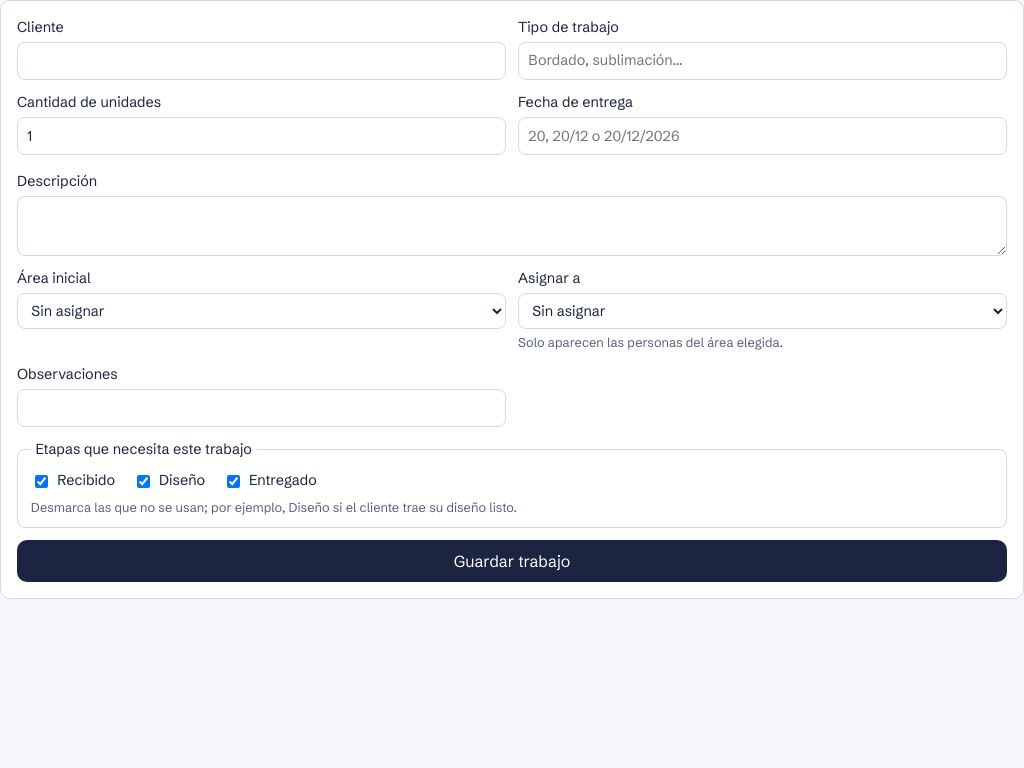
Test: NuevoTrabajo › exige al menos 2 etapas
Type "Colegio" into the field labelled "Cliente". click: (262,61)
box: [17,42,506,80]
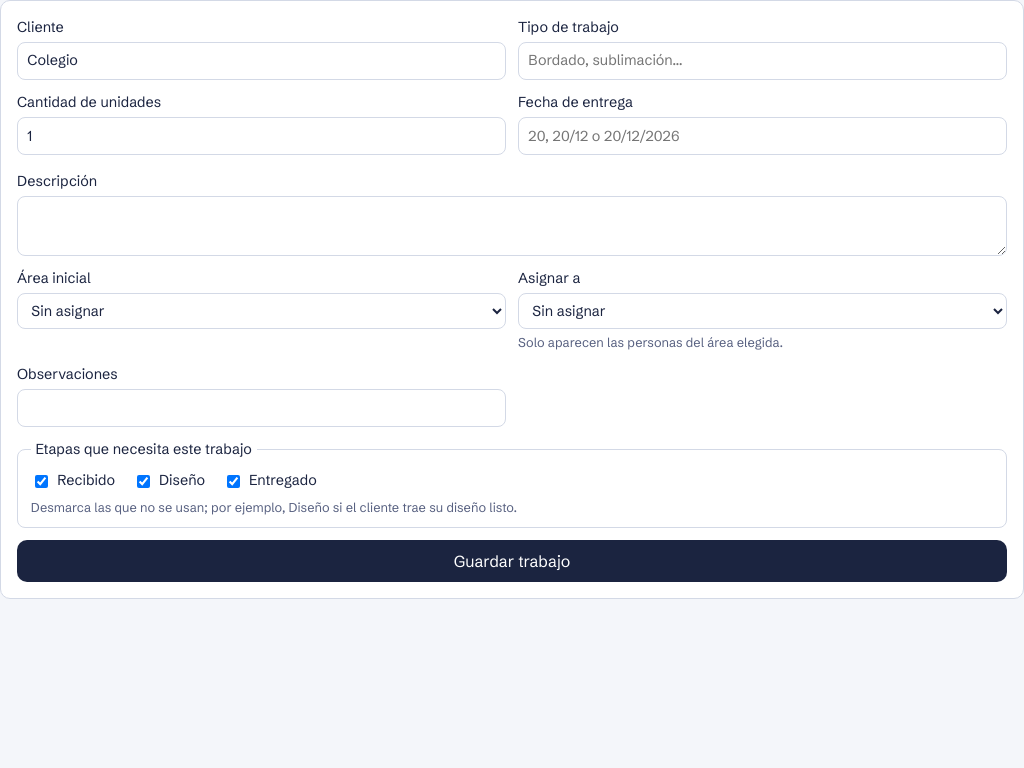
Type "Bordado" into the field labelled "Tipo de trabajo". click: (762,61)
box: [518,42,1007,80]
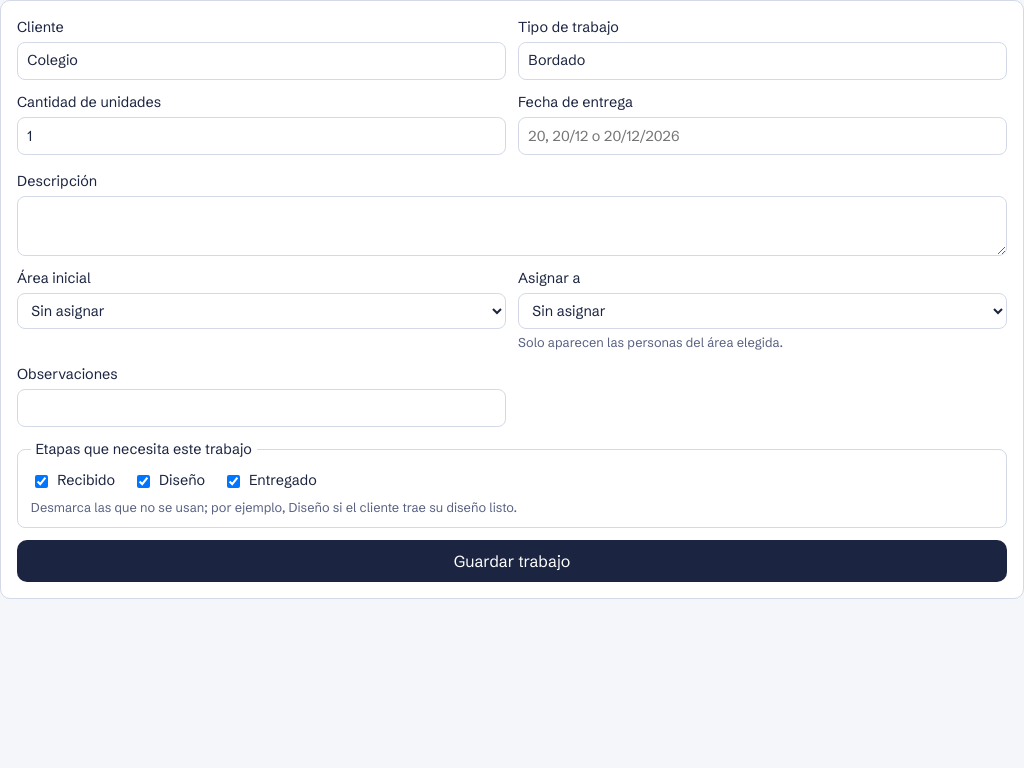
Type "60 buzos" into the text box labelled "Descripción". click: (512,226)
box: [17,196,1007,256]
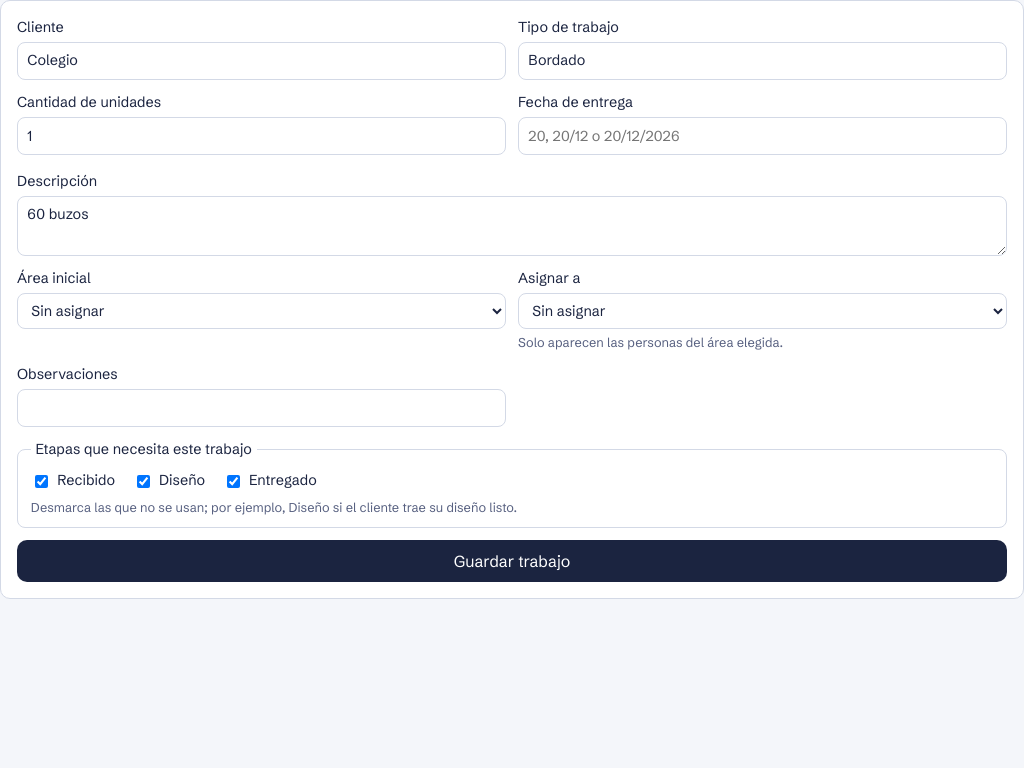
Click the checkbox labelled "Diseño". click: (143,481)
box: [137,475,150,488]
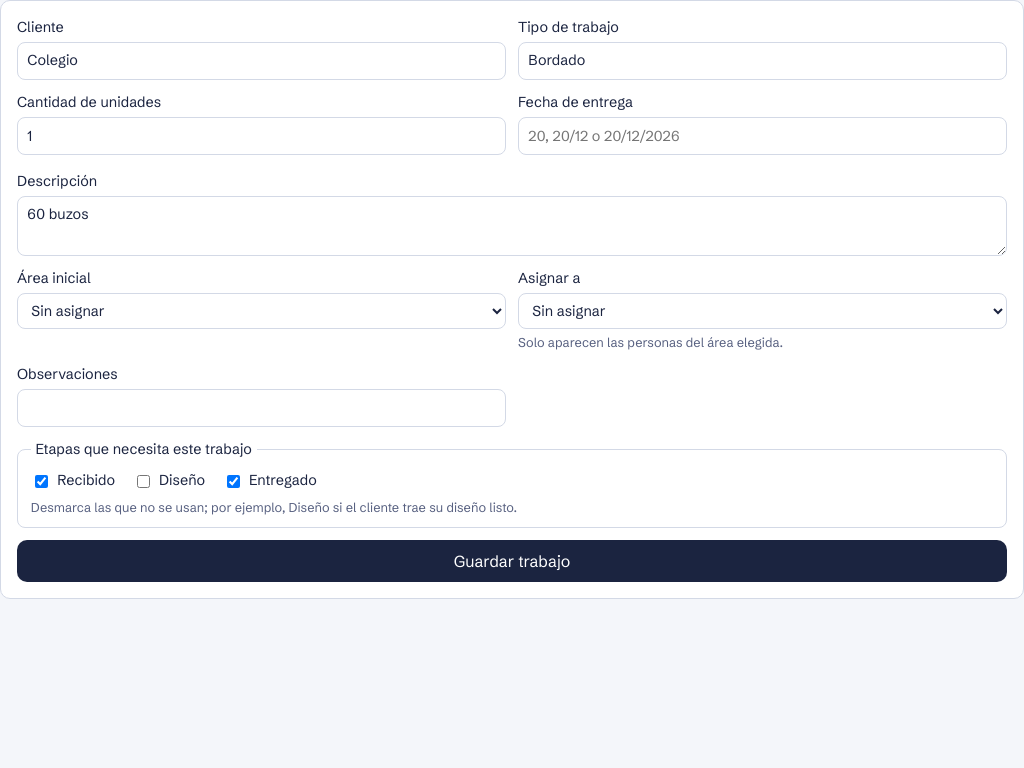
Click the checkbox labelled "Entregado". click: (233,481)
box: [227,475,240,488]
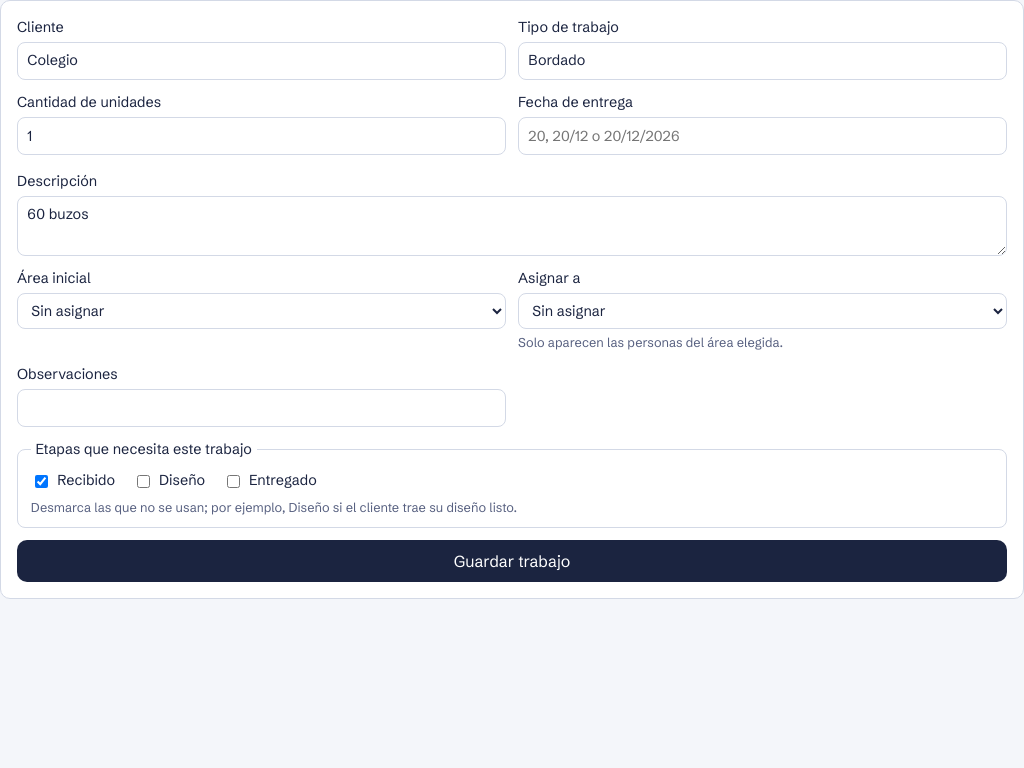
Click the button "Guardar trabajo". click: (512,561)
box: [17,540,1007,582]
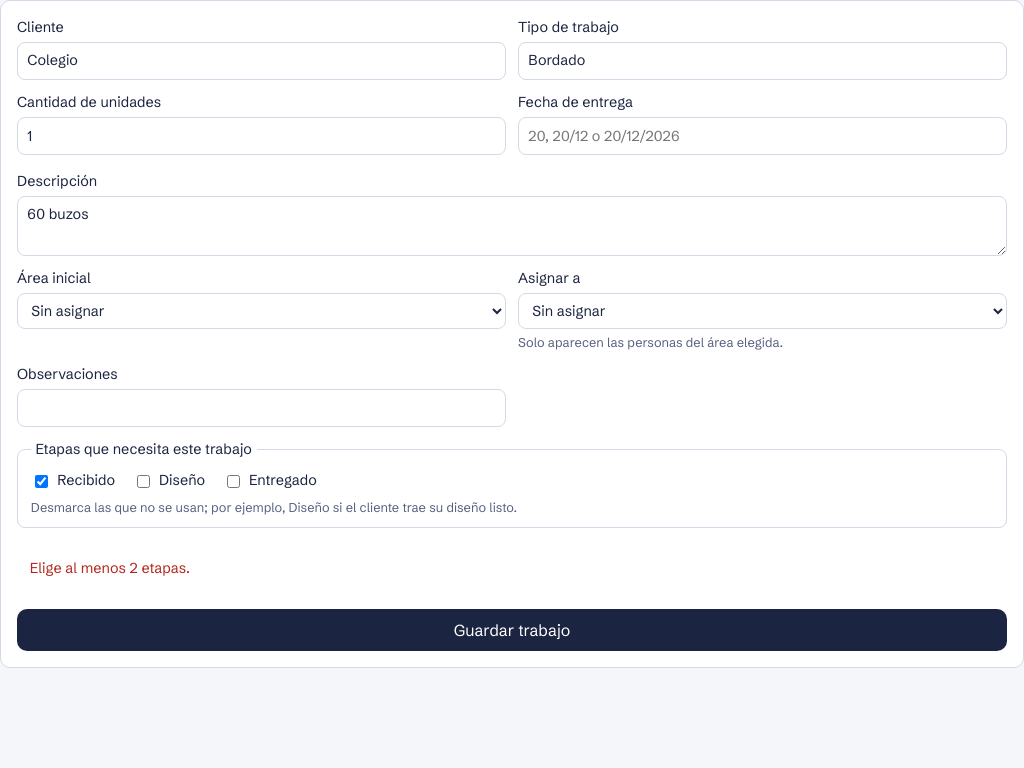
Expected: the message shows "al menos 2 etapas", [30,559,190,577]
